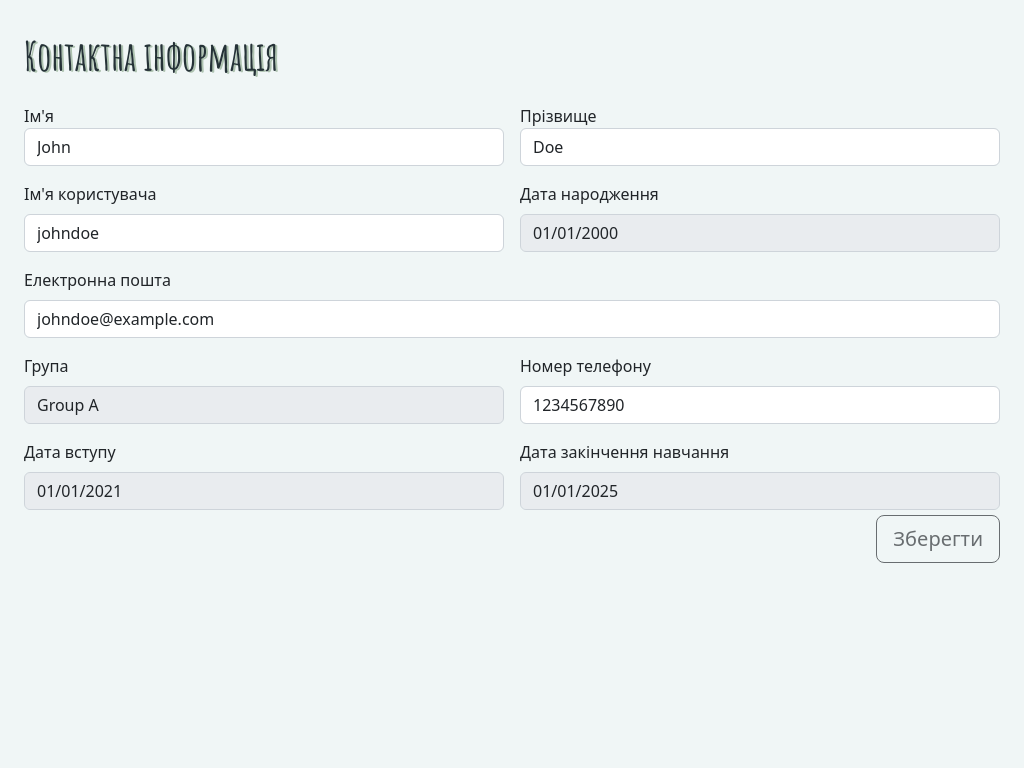
ProfileForm › Given form submission fails, it should display an error message
The image size is (1024, 768).
Check: the field named "Last name" is shown, box [520,128,1000,166]
Check: the field named "User name" is shown, box [24,214,504,252]
Replace the text in the field named "First name" with "NewJohn" at (264, 147), box [24,128,504,166]
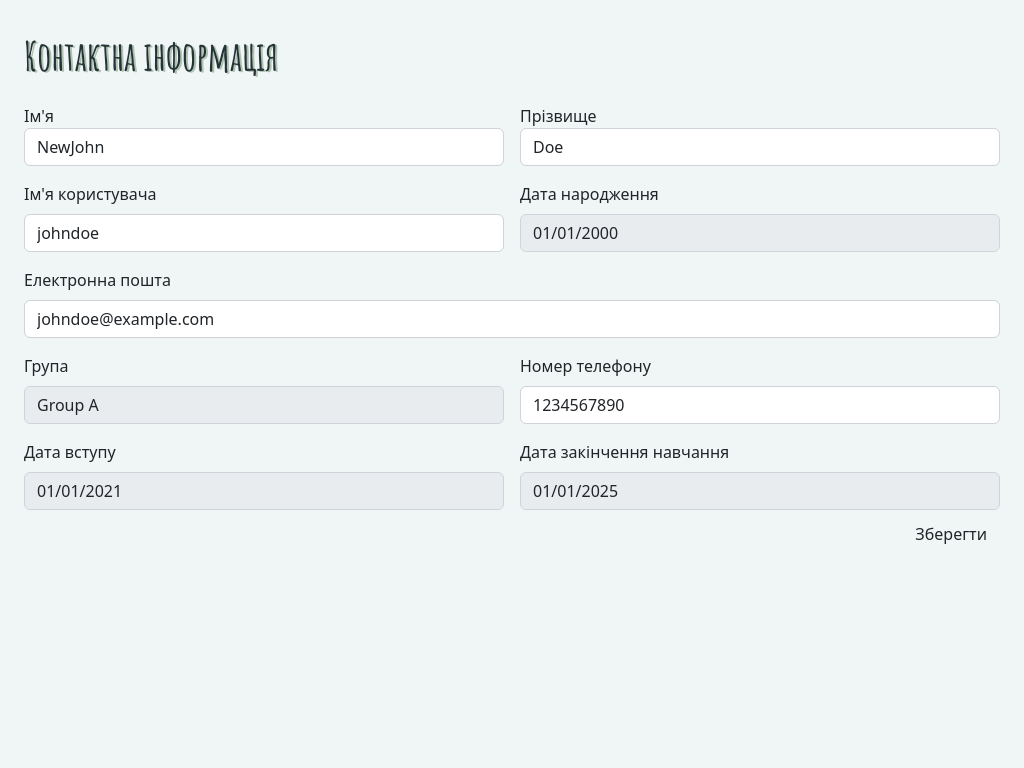
Replace the text in the field named "Last name" with "NewDoe" at (760, 147), box [520,128,1000,166]
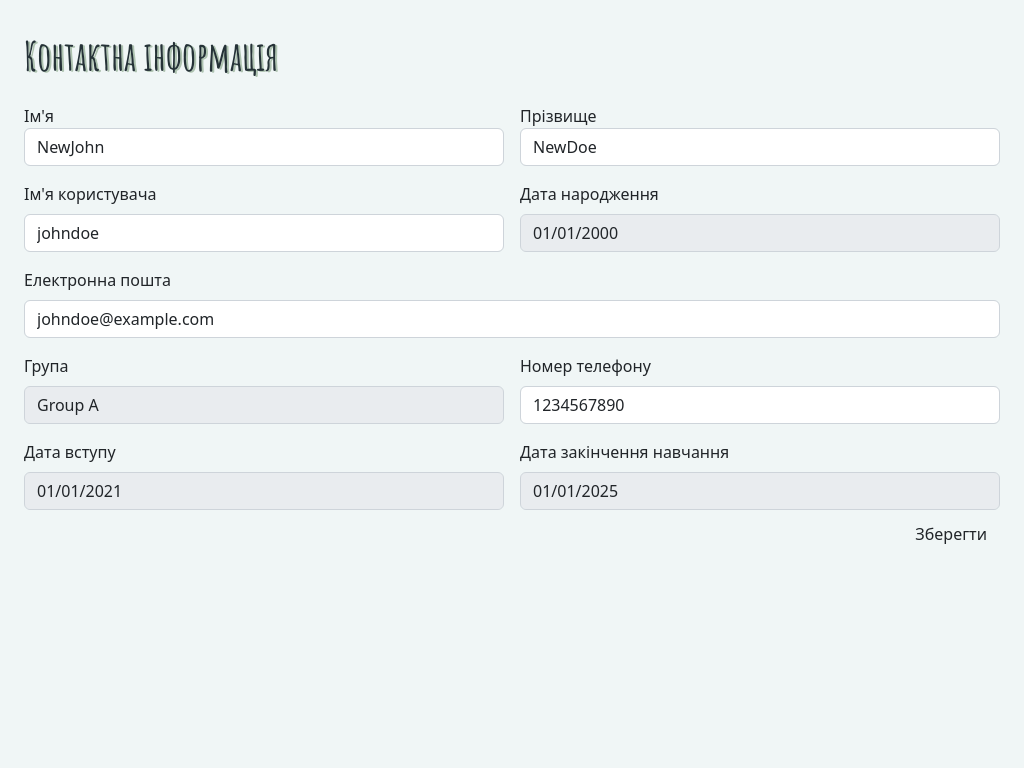
Replace the text in the field named "User name" with "Newjohndoe" at (264, 233), box [24,214,504,252]
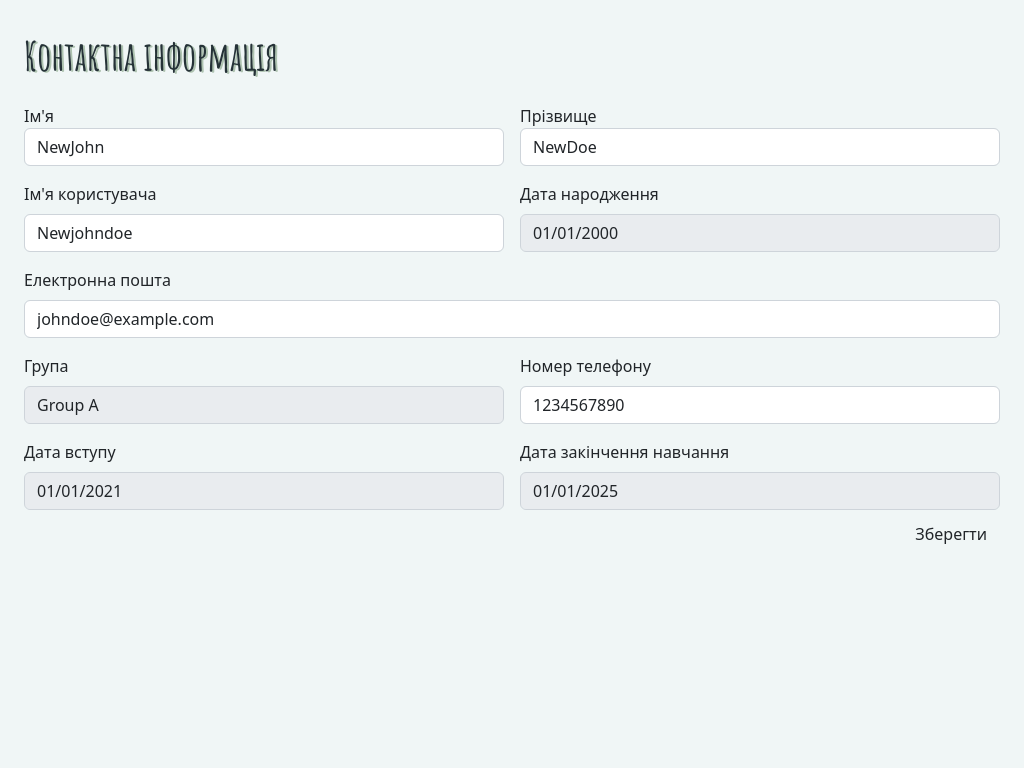
Replace the text in the field named "inputEmail4" with "newjohndoe@example.com" at (512, 319), box [24,300,1000,338]
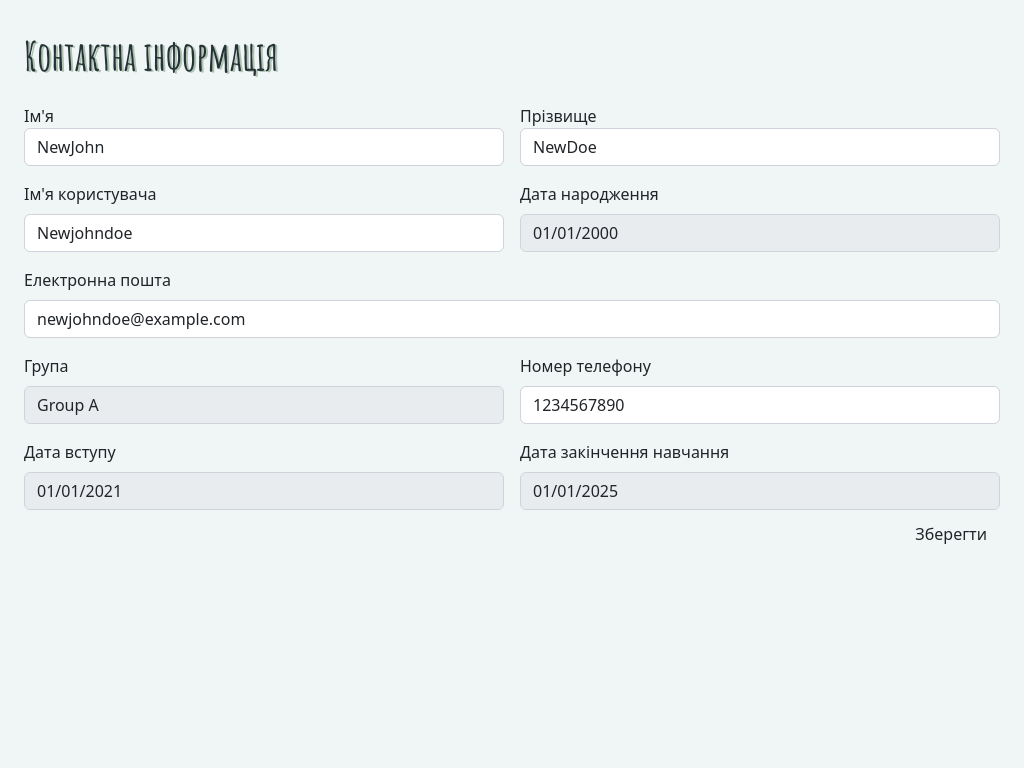
Replace the text in the field named "Phone number" with "1234567890111" at (760, 405), box [520,386,1000,424]
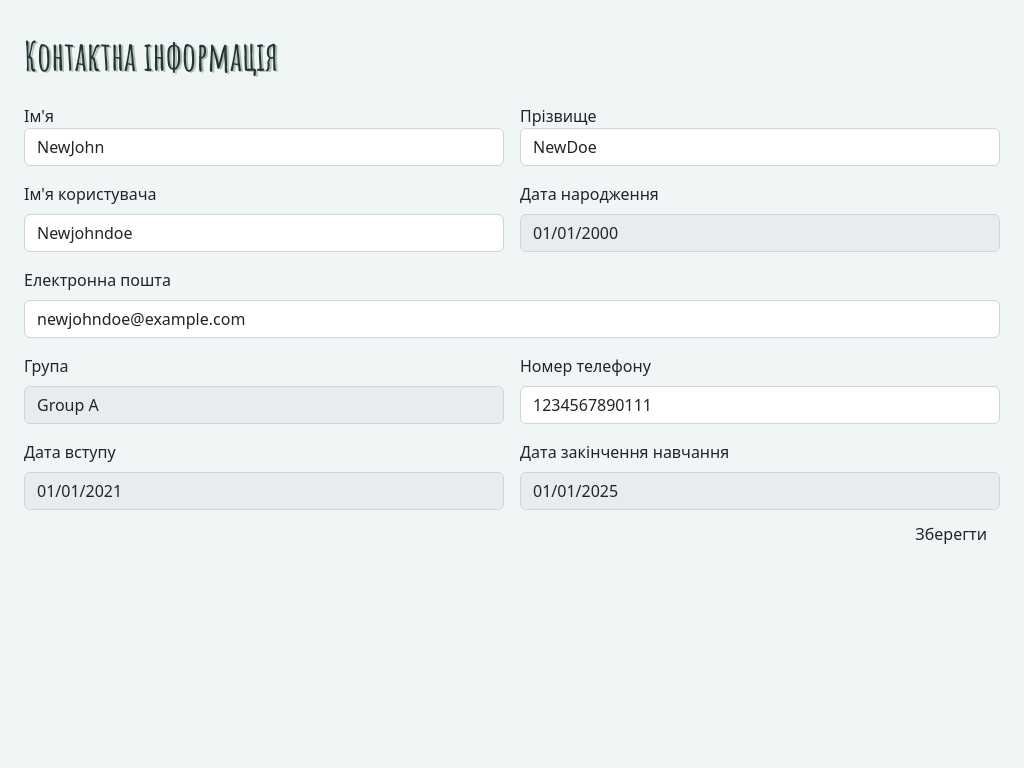
Click the button "Зберегти" at (951, 534), box [902,515,1000,553]
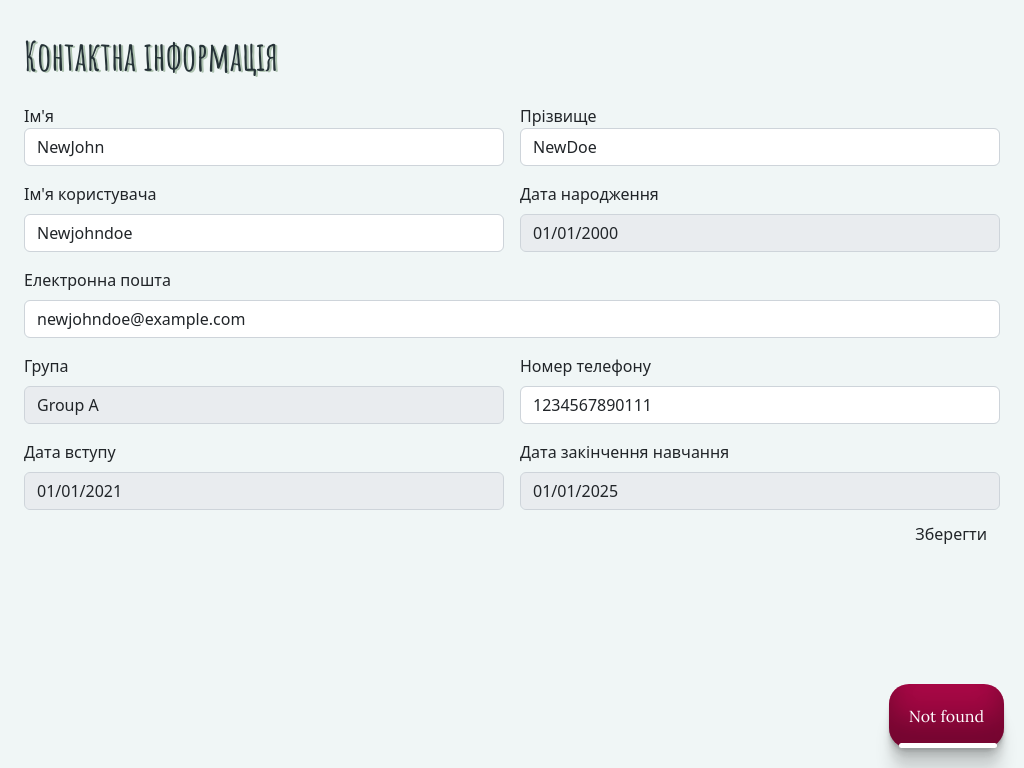
Check: the text "Not found" is shown, box [889,684,1004,748]
